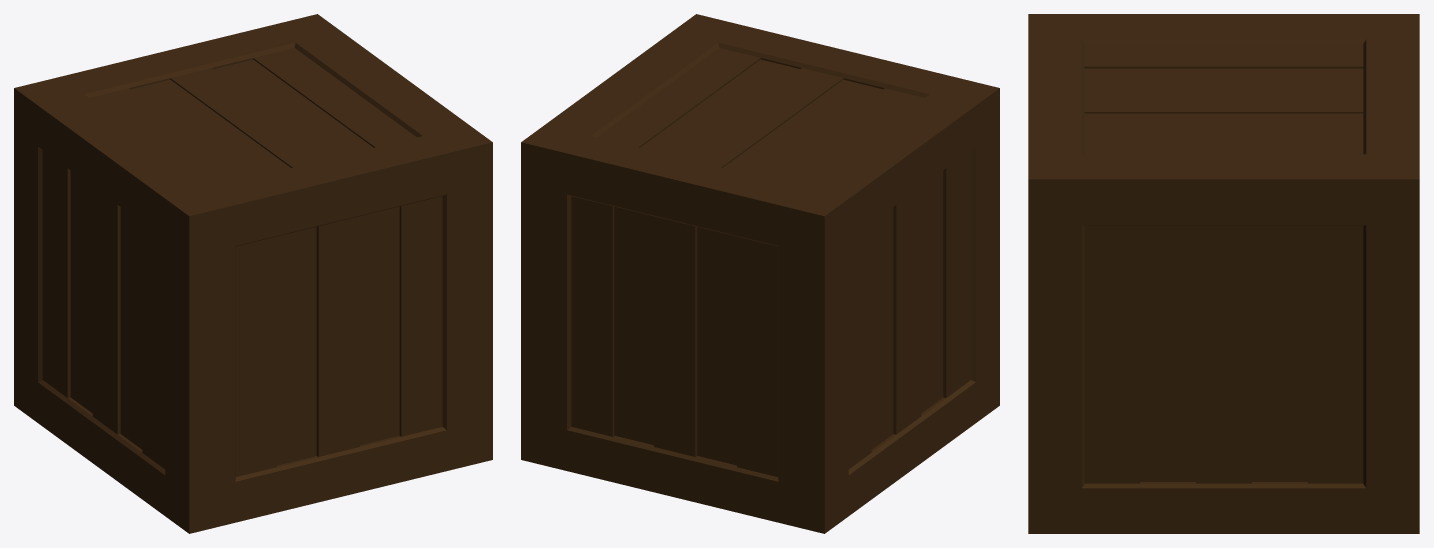
File: WoodenCrate_Small.fbx
The picture shows the model from 3 angles, left to right: view 1: azimuth 30°, elevation 25°; view 2: azimuth 150°, elevation 25°; view 3: azimuth 270°, elevation 25°; orthographic projection. The views are drawn at different scales.
Visible parts, largest first — view 1: WoodenCrate_Small; view 2: WoodenCrate_Small; view 3: WoodenCrate_Small.
Boxes of the visible parts, x1=… form: WoodenCrate_Small: x1=14, y1=14, x2=492, y2=533; WoodenCrate_Small: x1=521, y1=14, x2=999, y2=533; WoodenCrate_Small: x1=1028, y1=14, x2=1419, y2=533.
Bounding box in the file's own units: 1.02 × 1.02 × 1.02.
